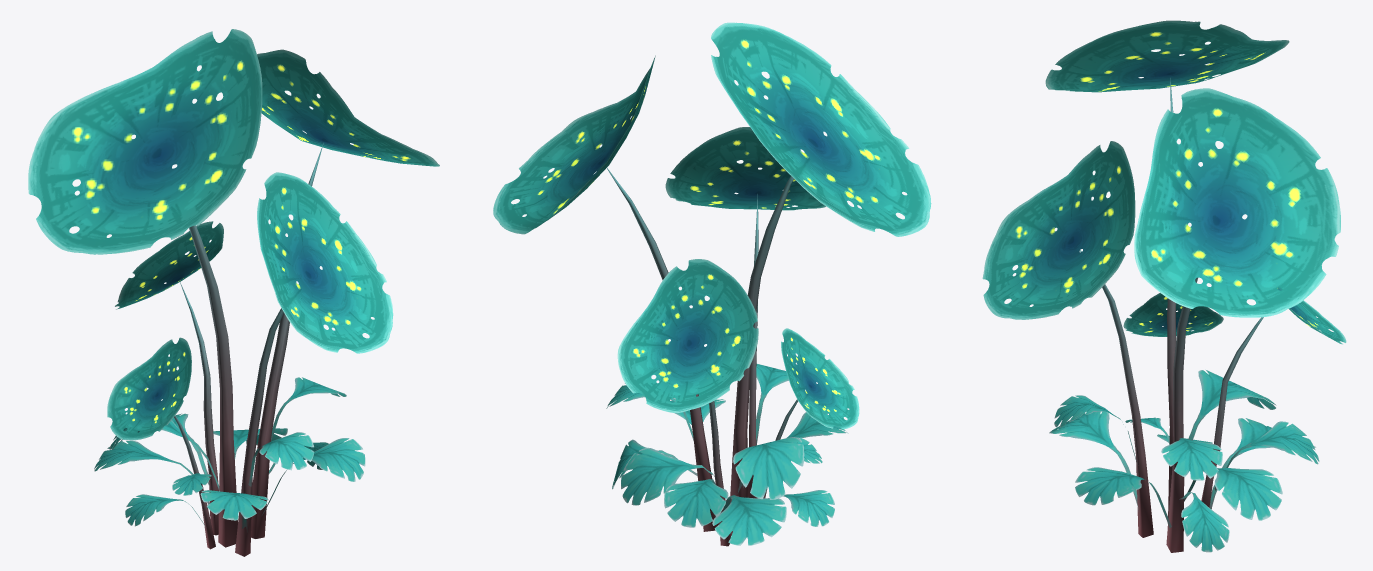
File: SM_ENV_plant_ancient_13_01.fbx
3 renders of one model, left to right at view 1: azimuth 30°, elevation 25°; view 2: azimuth 150°, elevation 25°; view 3: azimuth 270°, elevation 25°, orthographic. The views are drawn at different scales.
Visible parts, largest first — view 1: SM_ENV_plant_ancient_13_01_LOD0; view 2: SM_ENV_plant_ancient_13_01_LOD0; view 3: SM_ENV_plant_ancient_13_01_LOD0.
Boxes of the visible parts, left/top/right/bottom form: SM_ENV_plant_ancient_13_01_LOD0: left=28, top=29, right=439, bottom=556; SM_ENV_plant_ancient_13_01_LOD0: left=493, top=22, right=931, bottom=546; SM_ENV_plant_ancient_13_01_LOD0: left=982, top=20, right=1346, bottom=552.
Size of the model in its own units: 76.21 by 91.52 by 60.38.
